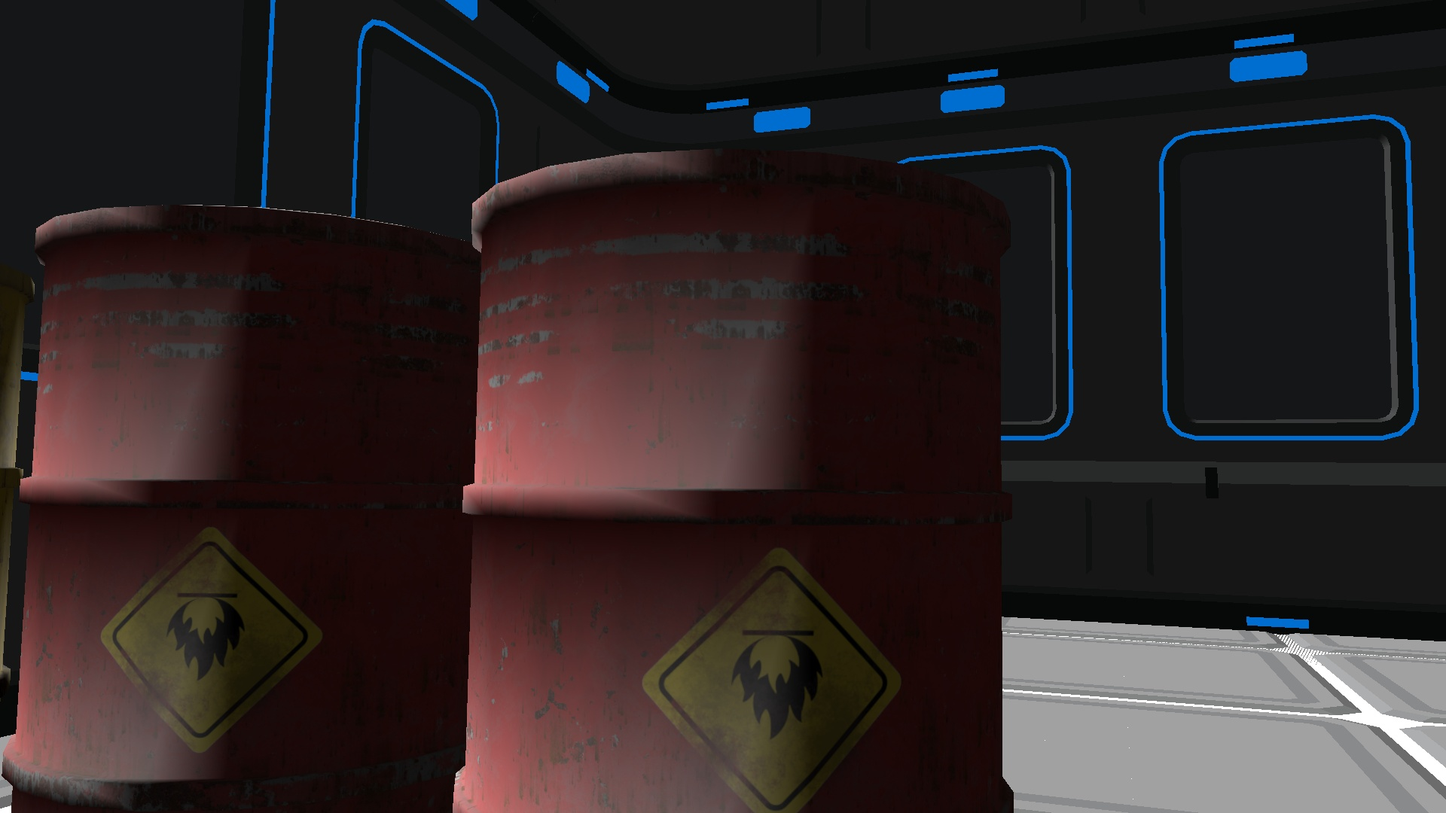toxic barrel: (451, 146, 1013, 813), (0, 201, 480, 813)
